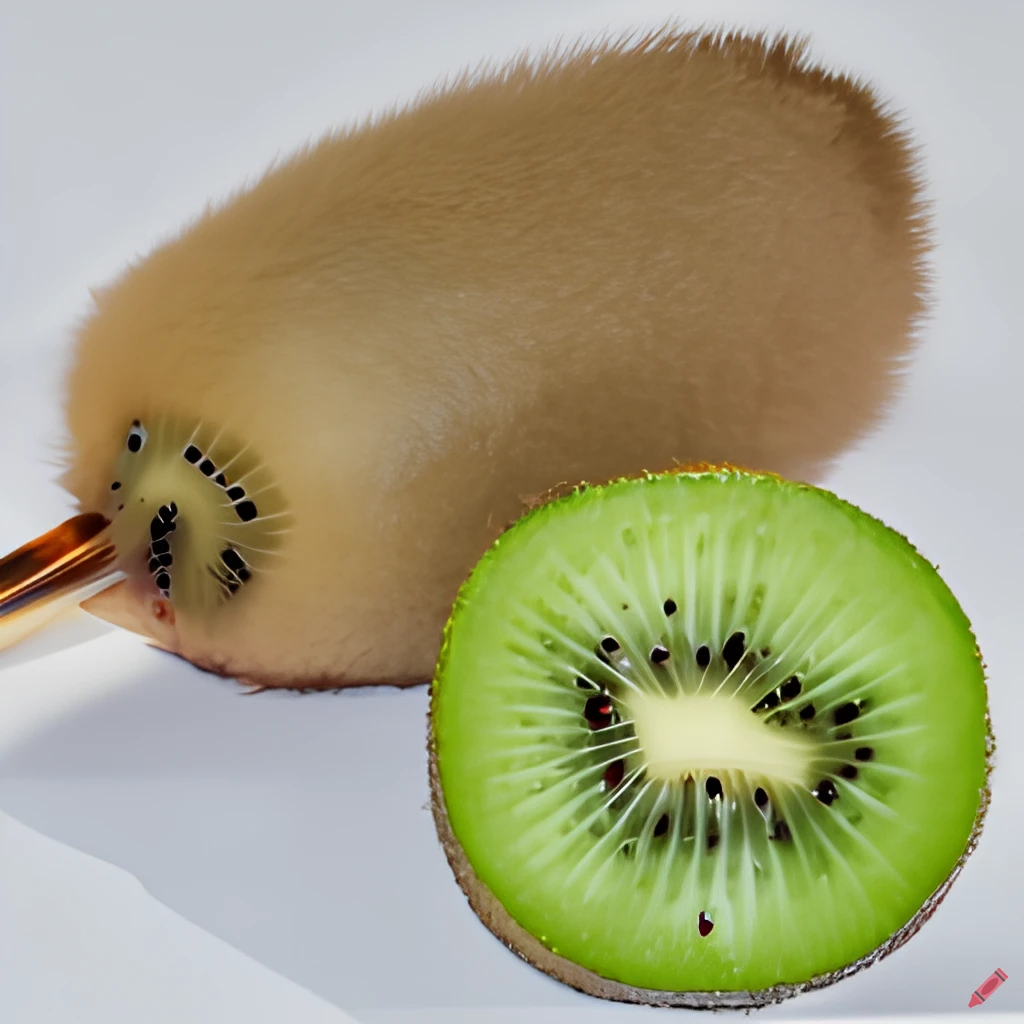Kiwi: (431, 442, 986, 1024)
